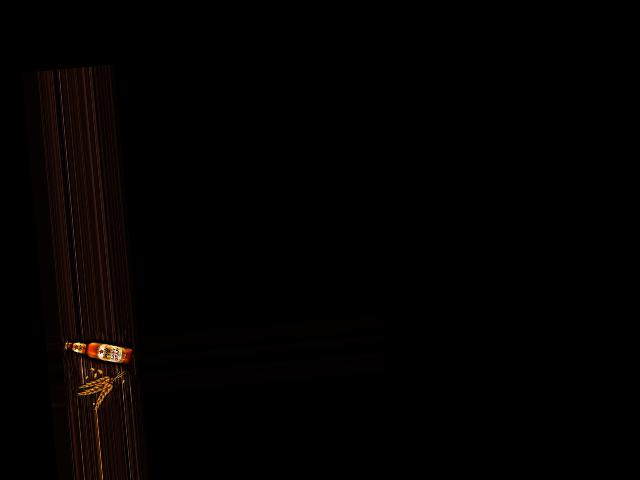beer: (64, 334, 134, 370)
